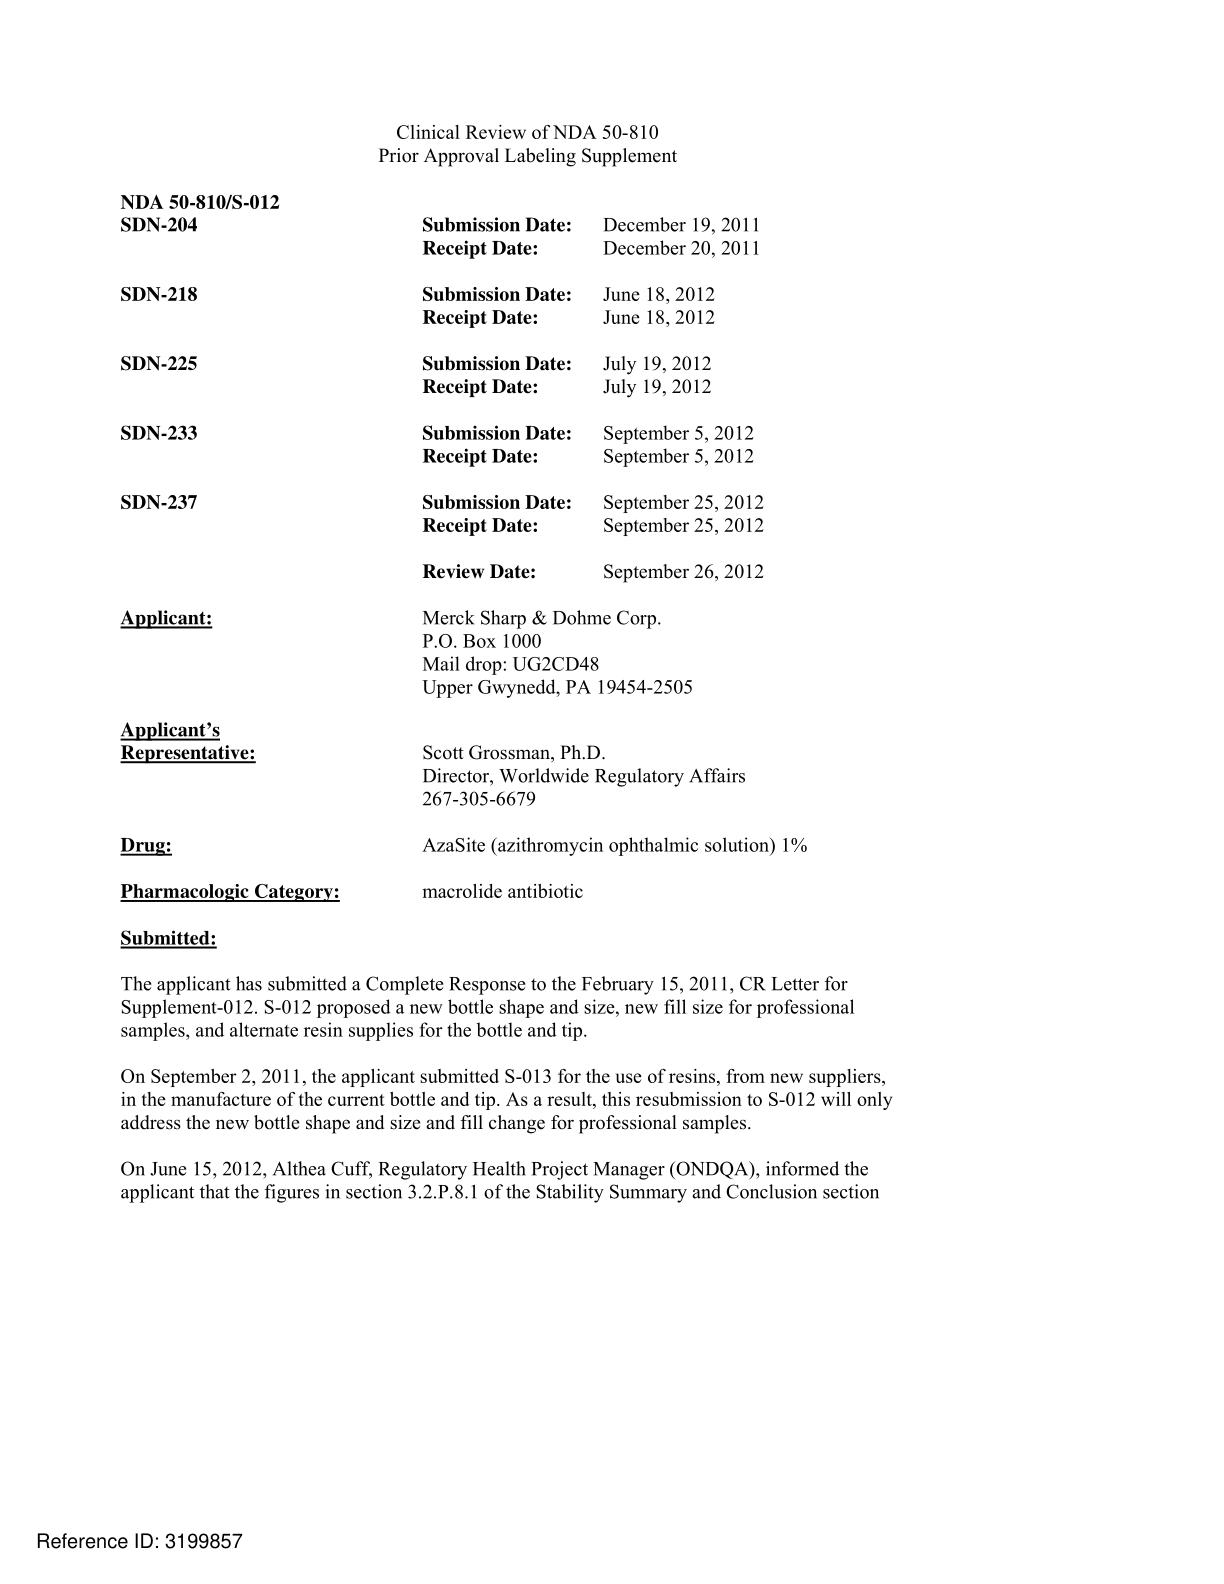nolines: (116, 192, 811, 954)
